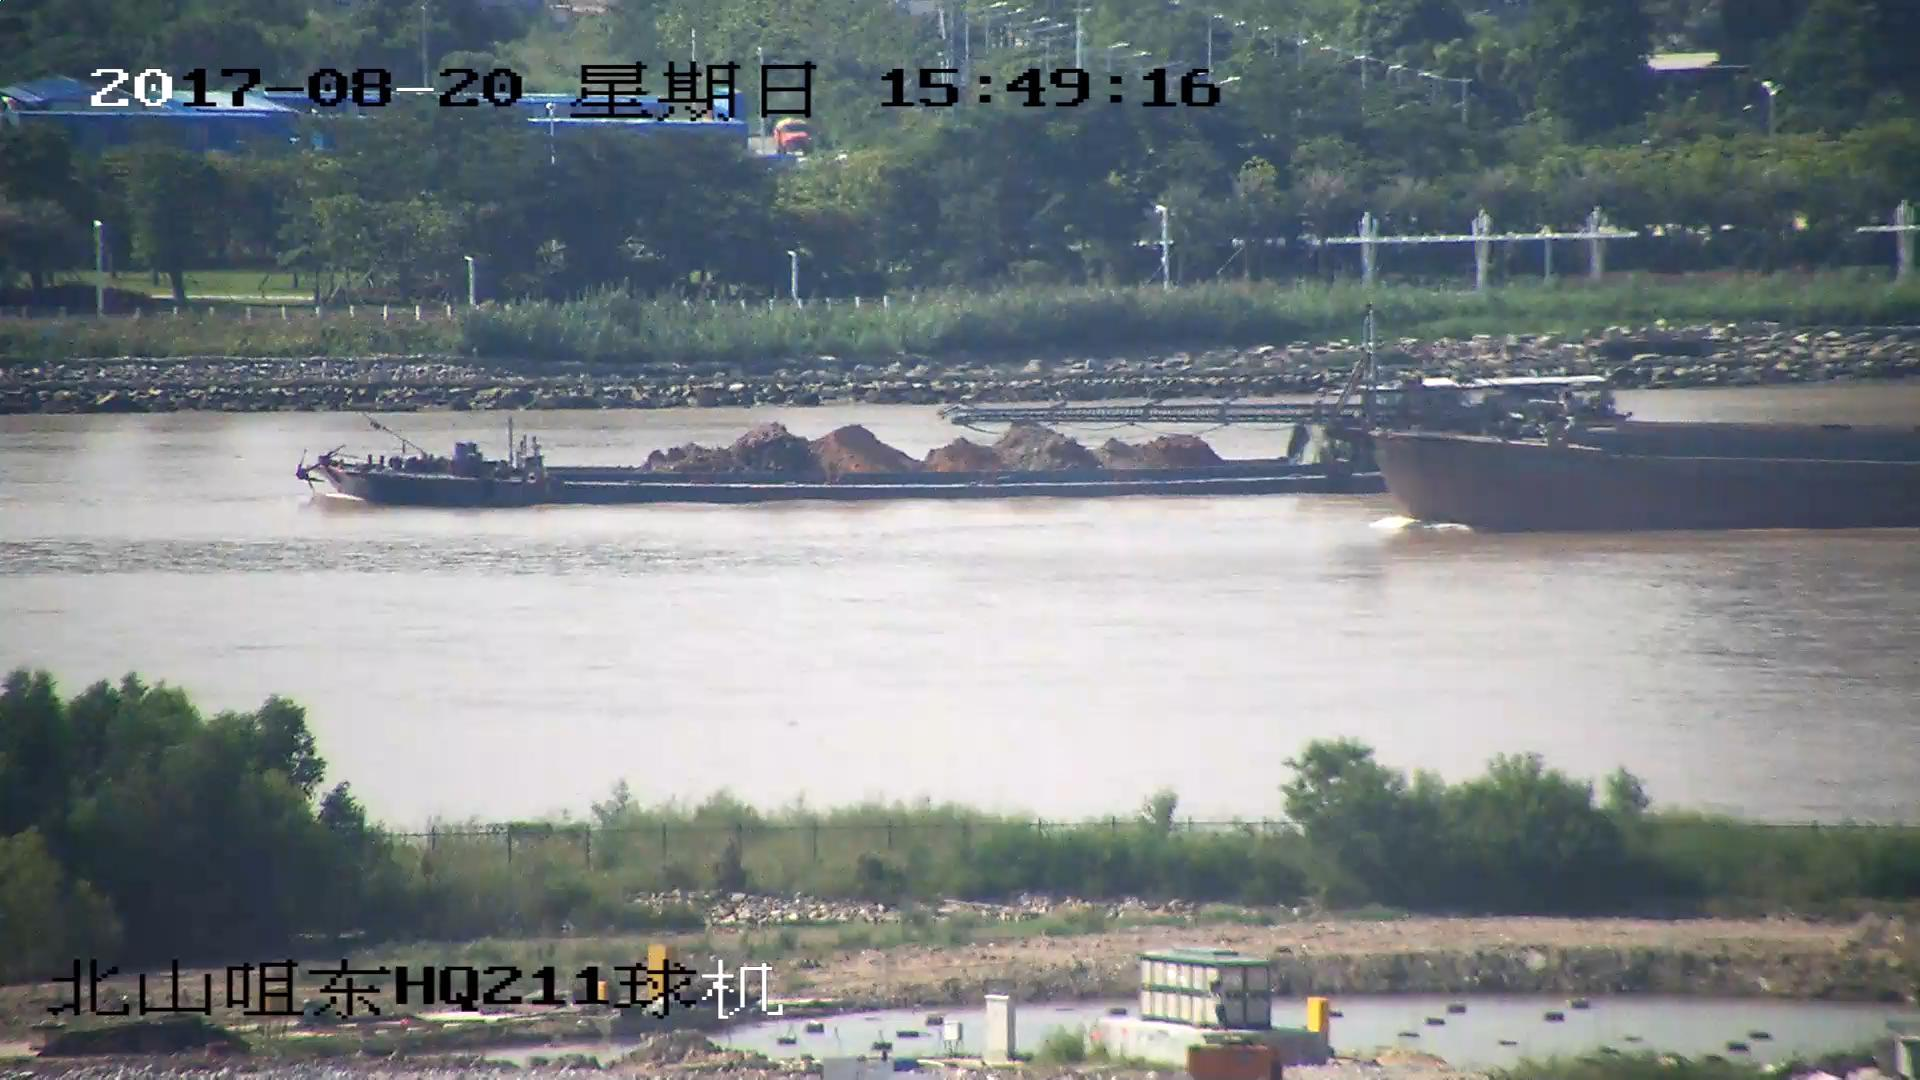Ship: (960, 320, 1920, 535), (302, 360, 1629, 509)
